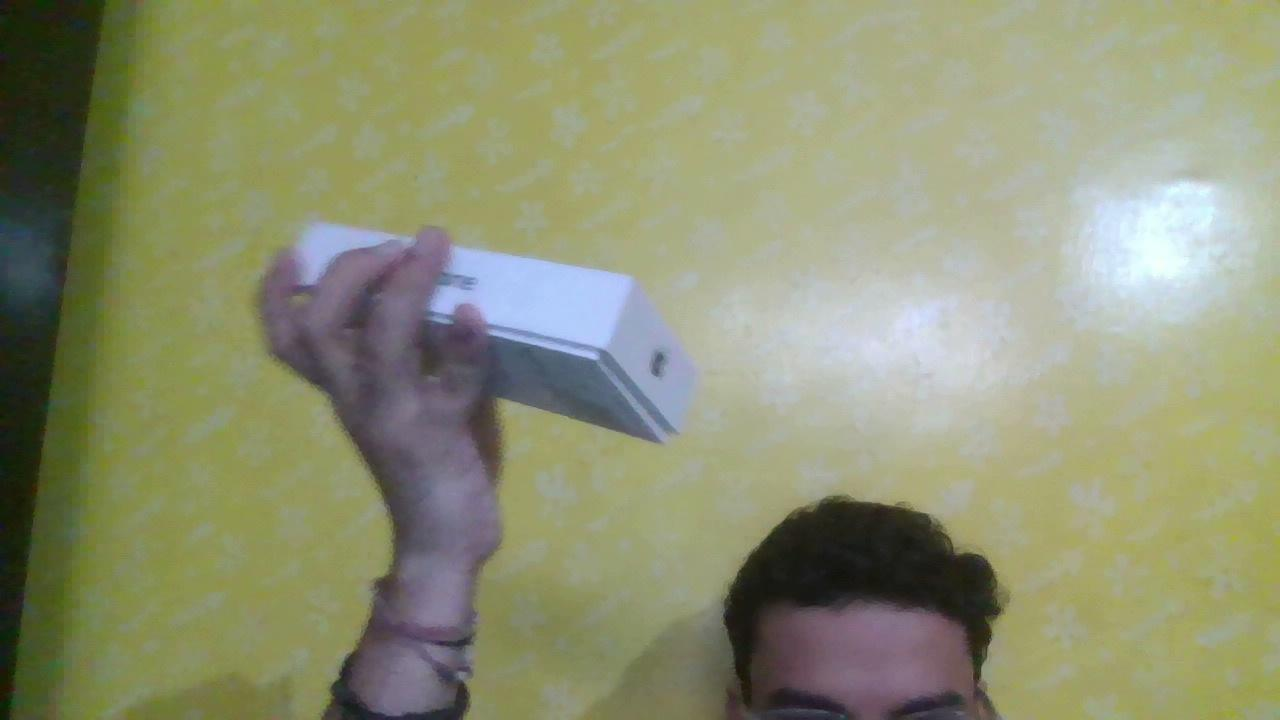Phone: (289, 202, 739, 437)
